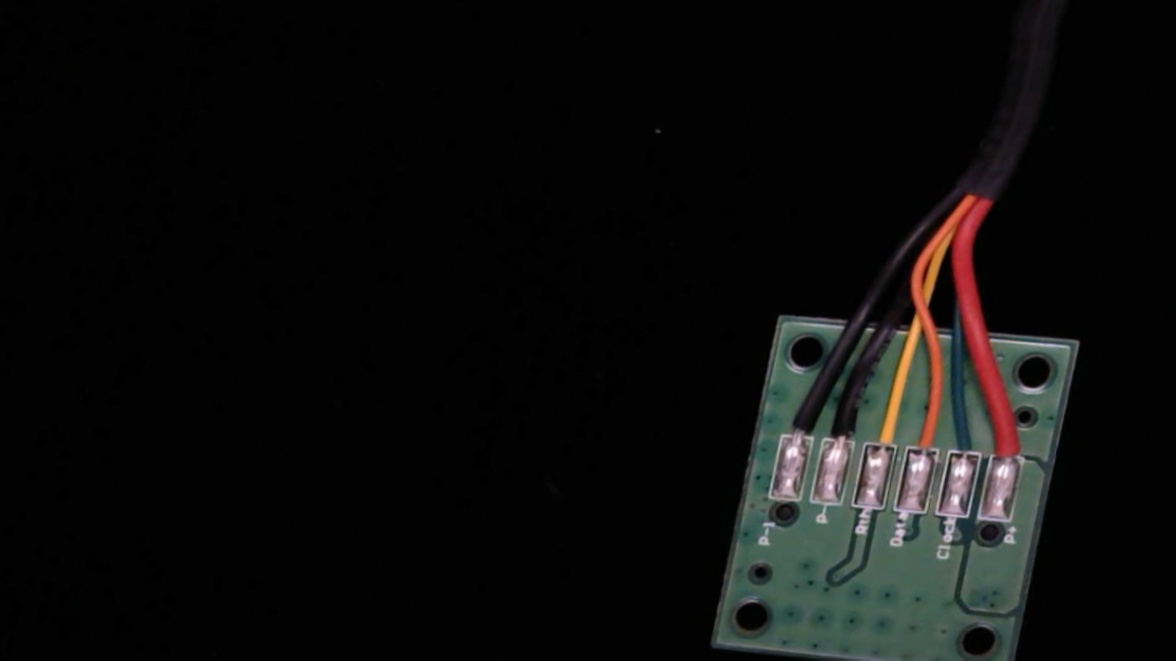Black: (820, 388, 870, 460)
Black1: (773, 386, 826, 457)
Green: (944, 407, 994, 475)
Orange: (902, 407, 948, 470)
Red: (987, 411, 1035, 478)
Yellow: (861, 396, 909, 467)
